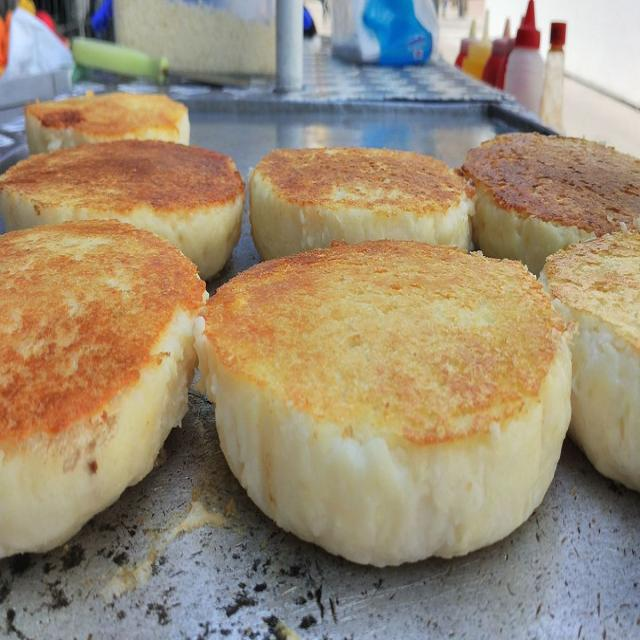arepa: (202, 228, 576, 593)
